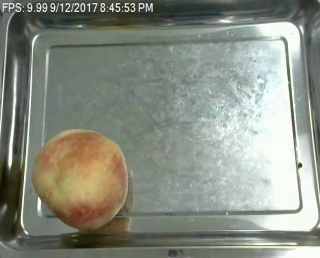Peach: (32, 127, 129, 229)
